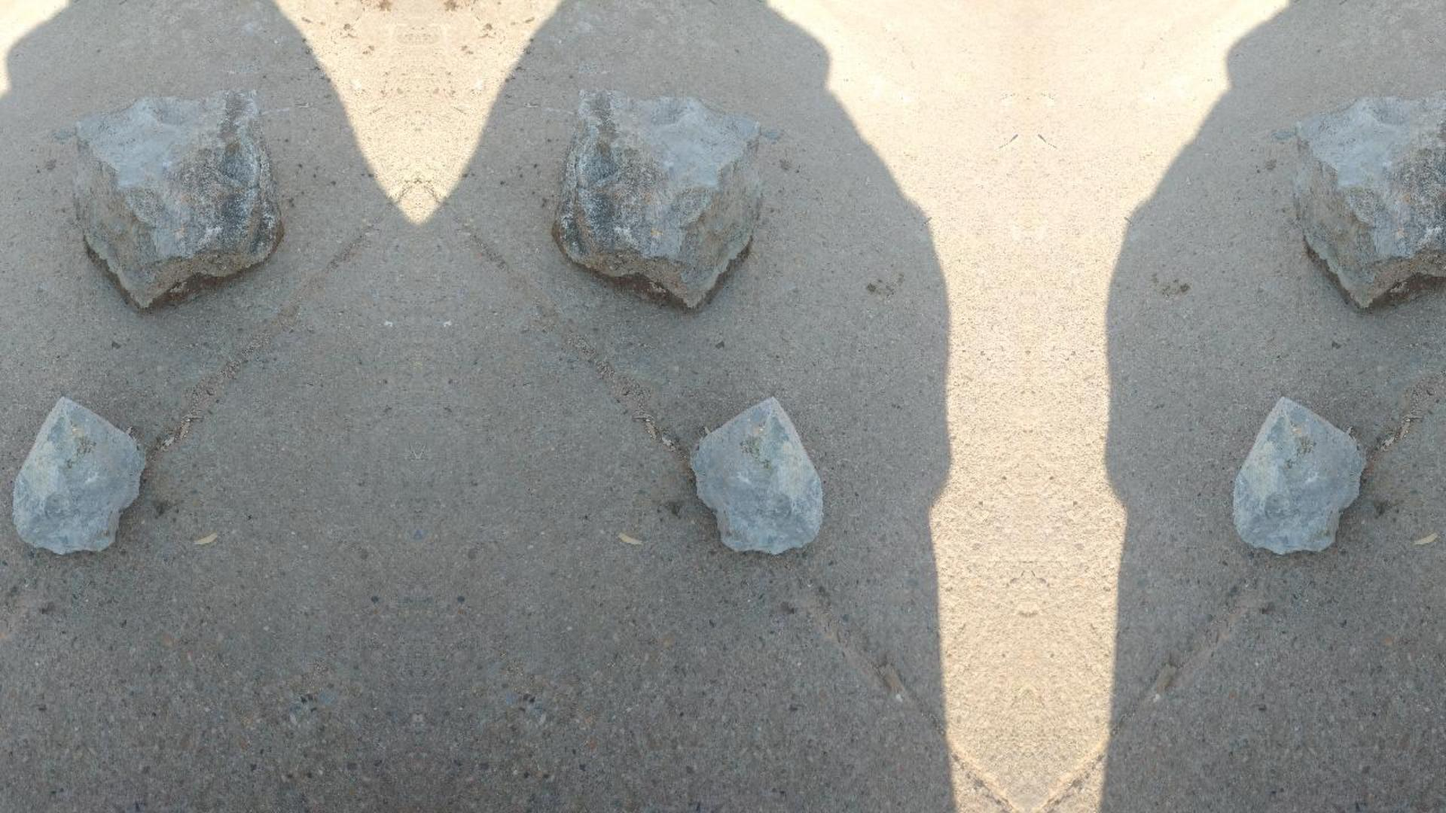rock: (73, 91, 281, 307), (555, 90, 760, 307), (1295, 91, 1445, 306), (1232, 396, 1364, 553), (12, 396, 143, 553), (691, 397, 822, 553)
